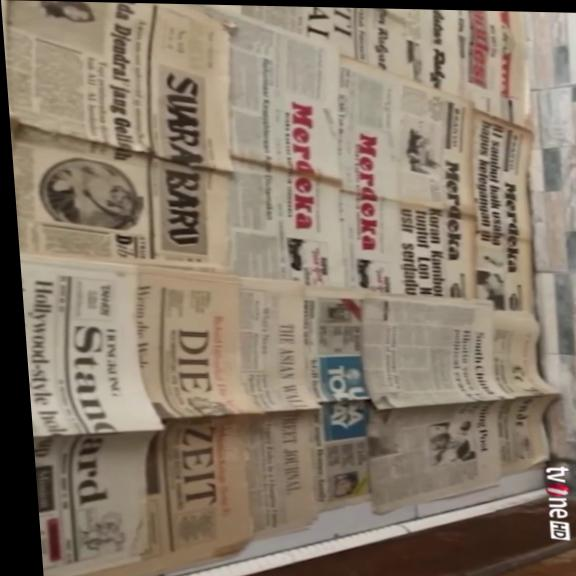Kertas: (1, 2, 239, 171), (356, 391, 566, 522), (19, 256, 166, 438), (350, 290, 507, 411)
